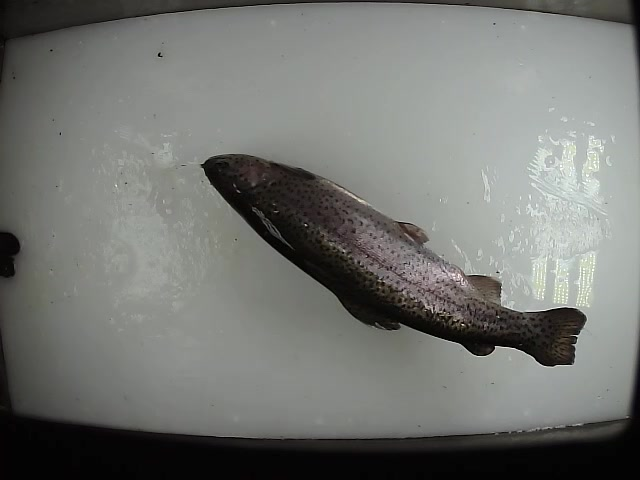fish: (201, 151, 587, 367)
